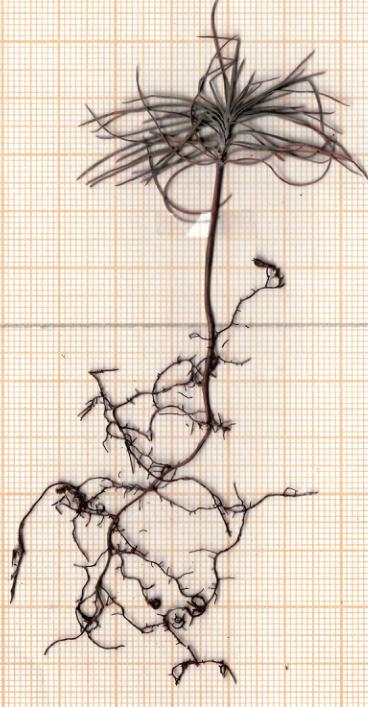flower: (73, 34, 368, 207)
root: (11, 322, 301, 680)
stem: (196, 172, 232, 324)
